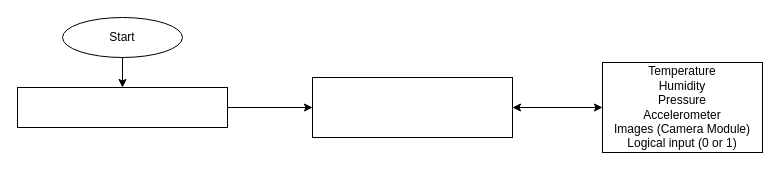
This 780x170 diagram has some shape labels left out. Here are the shapes that lost their labels. From the top down, the box of each, then its label:
(16, 86, 228, 128): Initialize LCD, Relay, Storage Layer
(312, 76, 512, 138): Take output of all sensors and store it in storage layer
